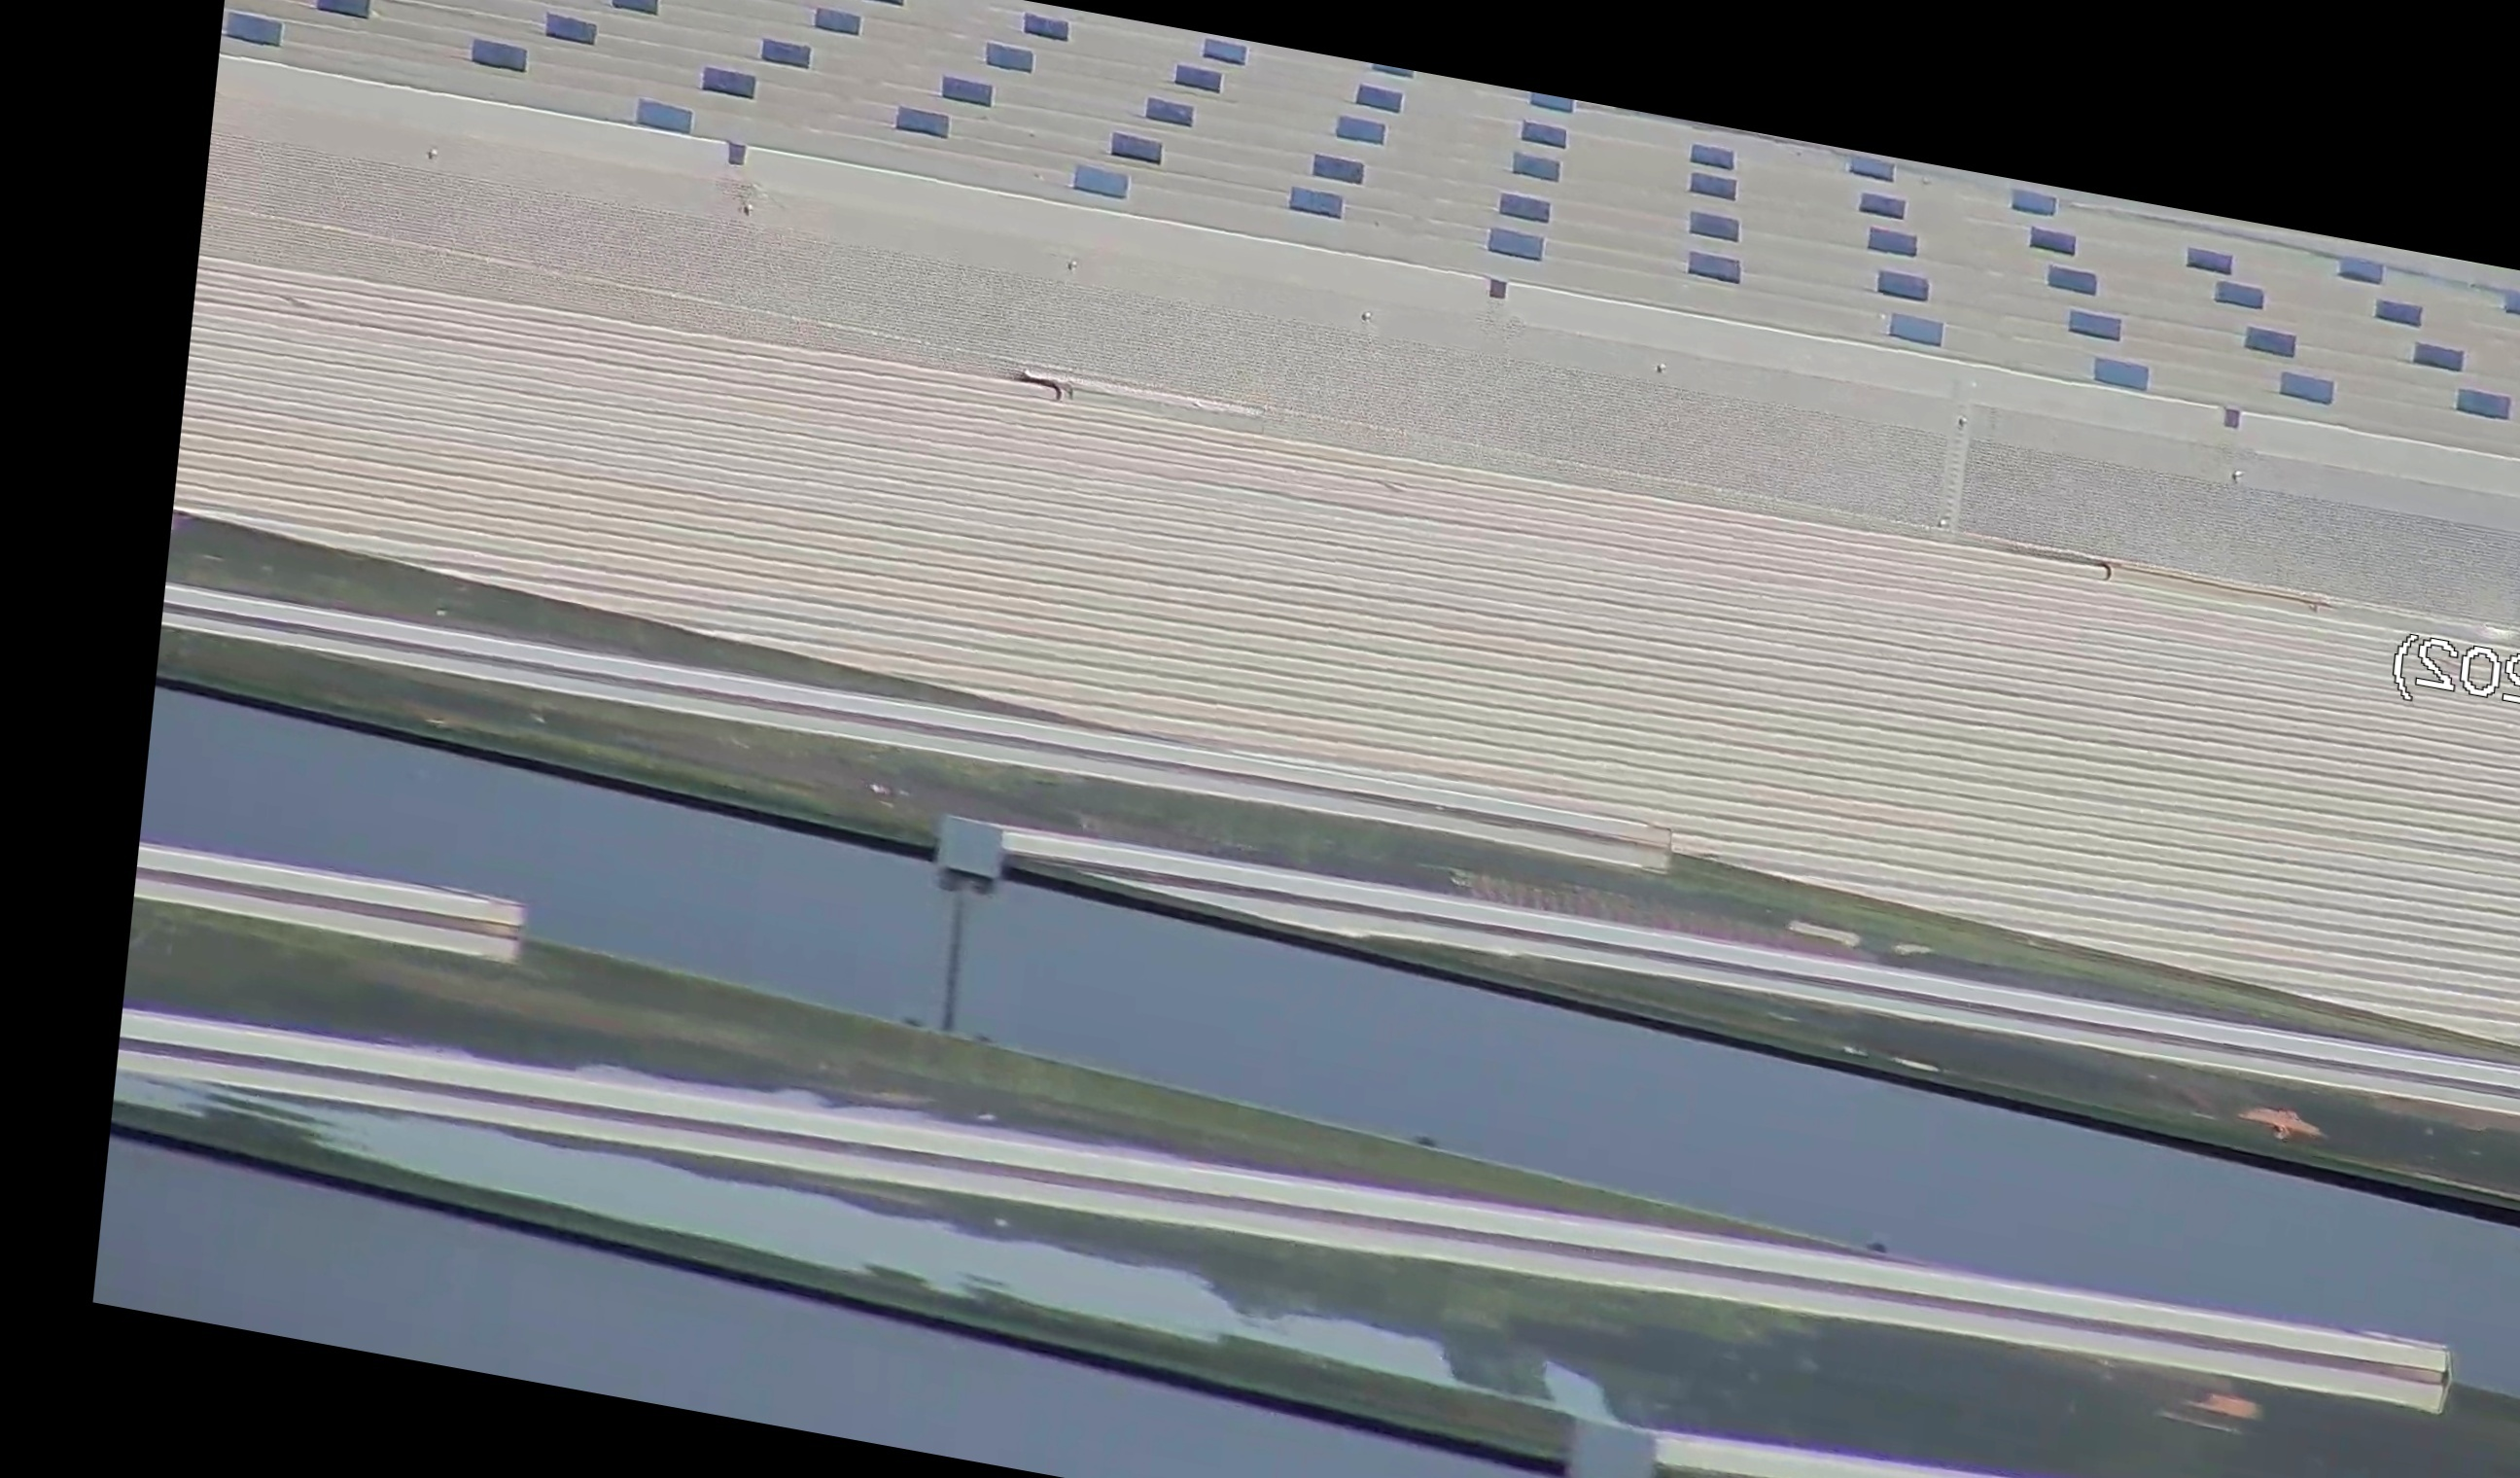Other: (1472, 0, 1650, 97)
